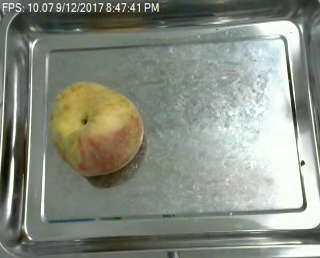Peach: (48, 80, 144, 176)
